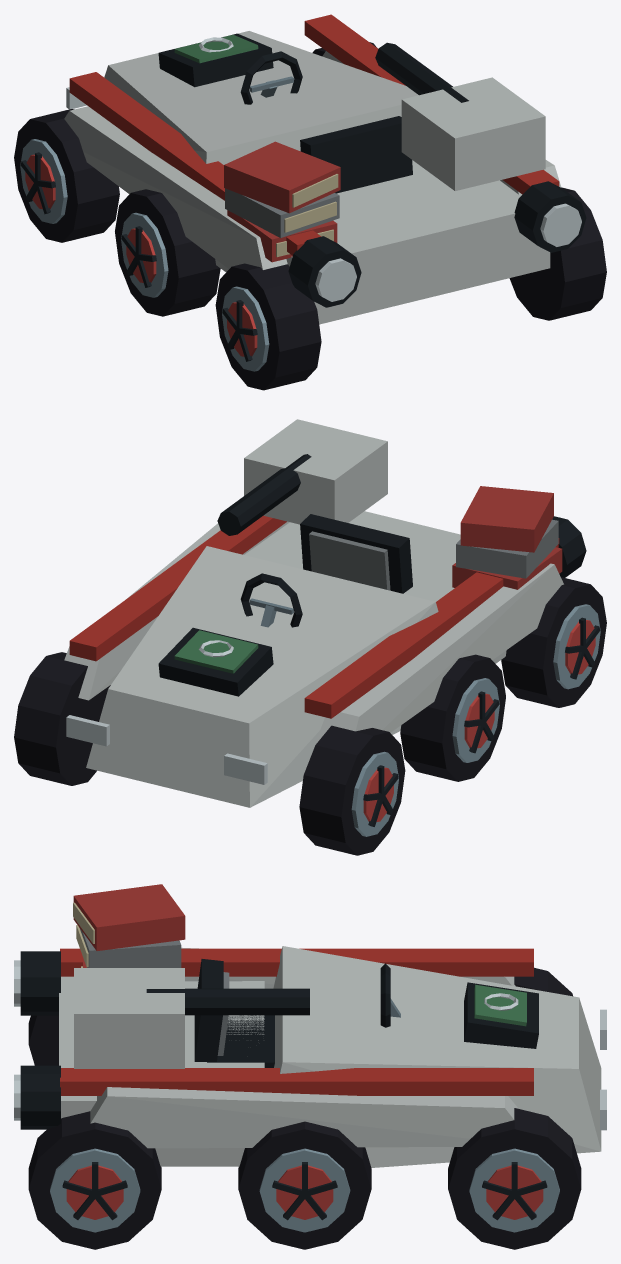
Rendered from kart.glb.
3 renders of one model, top to bottom at view 1: azimuth 30°, elevation 25°; view 2: azimuth 150°, elevation 25°; view 3: azimuth 270°, elevation 25°, orthographic. The views are drawn at different scales.
Visible parts, largest first — view 1: identity-mako-mako-wedge-rover, wheel-rear-left, identity-mako-motif-books, wheel-front-left, wheel-middle-left, identity-mako-motif-thrusters, identity-mako-driver-cockpit, wheel-rear-right, identity-mako-motif-scanner; view 2: identity-mako-mako-wedge-rover, wheel-front-left, wheel-middle-left, wheel-rear-left, identity-mako-motif-books, wheel-front-right, identity-mako-driver-cockpit, identity-mako-motif-scanner, identity-mako-motif-thrusters; view 3: identity-mako-mako-wedge-rover, wheel-front-right, wheel-rear-right, wheel-middle-right, identity-mako-motif-books, identity-mako-motif-thrusters, identity-mako-driver-cockpit, identity-mako-motif-scanner, wheel-rear-left, wheel-front-left.
Part boxes in pixels (<box>): identity-mako-mako-wedge-rover: <box>64,14,561,324</box>; wheel-rear-left: <box>215,263,321,390</box>; identity-mako-motif-books: <box>224,141,340,262</box>; wheel-front-left: <box>14,109,119,242</box>; wheel-middle-left: <box>115,189,220,316</box>; identity-mako-motif-thrusters: <box>288,181,586,307</box>; identity-mako-driver-cockpit: <box>240,51,412,193</box>; wheel-rear-right: <box>509,187,606,320</box>; identity-mako-motif-scanner: <box>158,33,273,87</box>; identity-mako-mako-wedge-rover: <box>64,419,563,807</box>; wheel-front-left: <box>299,725,405,855</box>; wheel-middle-left: <box>400,654,505,781</box>; wheel-rear-left: <box>501,577,606,707</box>; identity-mako-motif-books: <box>452,486,562,589</box>; wheel-front-right: <box>14,652,110,785</box>; identity-mako-driver-cockpit: <box>240,514,412,627</box>; identity-mako-motif-scanner: <box>158,627,273,696</box>; identity-mako-motif-thrusters: <box>552,516,586,577</box>; identity-mako-mako-wedge-rover: <box>59,946,606,1167</box>; wheel-front-right: <box>448,1108,581,1249</box>; wheel-rear-right: <box>28,1111,161,1249</box>; wheel-middle-right: <box>238,1121,371,1249</box>; identity-mako-motif-books: <box>73,884,185,967</box>; identity-mako-motif-thrusters: <box>14,951,60,1129</box>; identity-mako-driver-cockpit: <box>194,959,400,1067</box>; identity-mako-motif-scanner: <box>464,982,538,1048</box>; wheel-rear-left: <box>28,1015,58,1065</box>; wheel-front-left: <box>514,967,572,996</box>.
Bounding box in the file's own units: 2.07 × 1.19 × 2.94.
